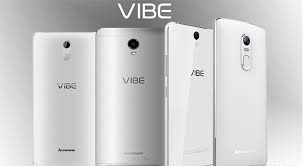lenovo: (211, 17, 272, 166)
